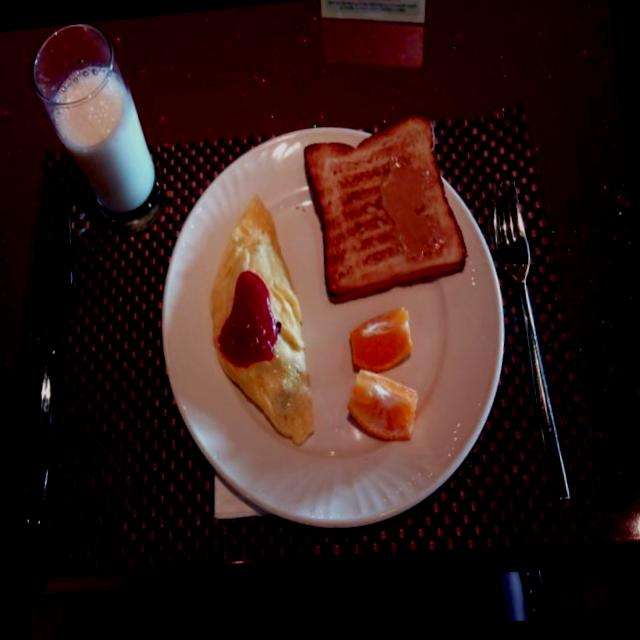Omelet: (192, 177, 324, 450)
